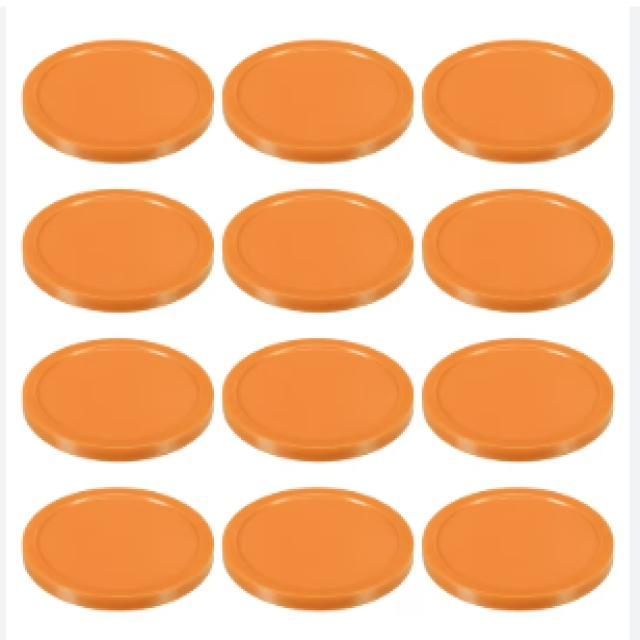chip: (422, 335, 614, 462), (222, 335, 412, 463), (22, 39, 214, 165), (222, 38, 414, 164), (222, 485, 413, 610), (222, 190, 414, 314), (424, 39, 614, 164), (23, 486, 215, 609), (22, 189, 212, 313), (423, 488, 611, 611), (424, 188, 612, 310), (22, 339, 214, 458)
